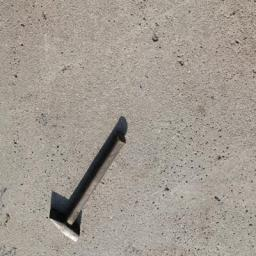FOD: (49, 116, 131, 244)
